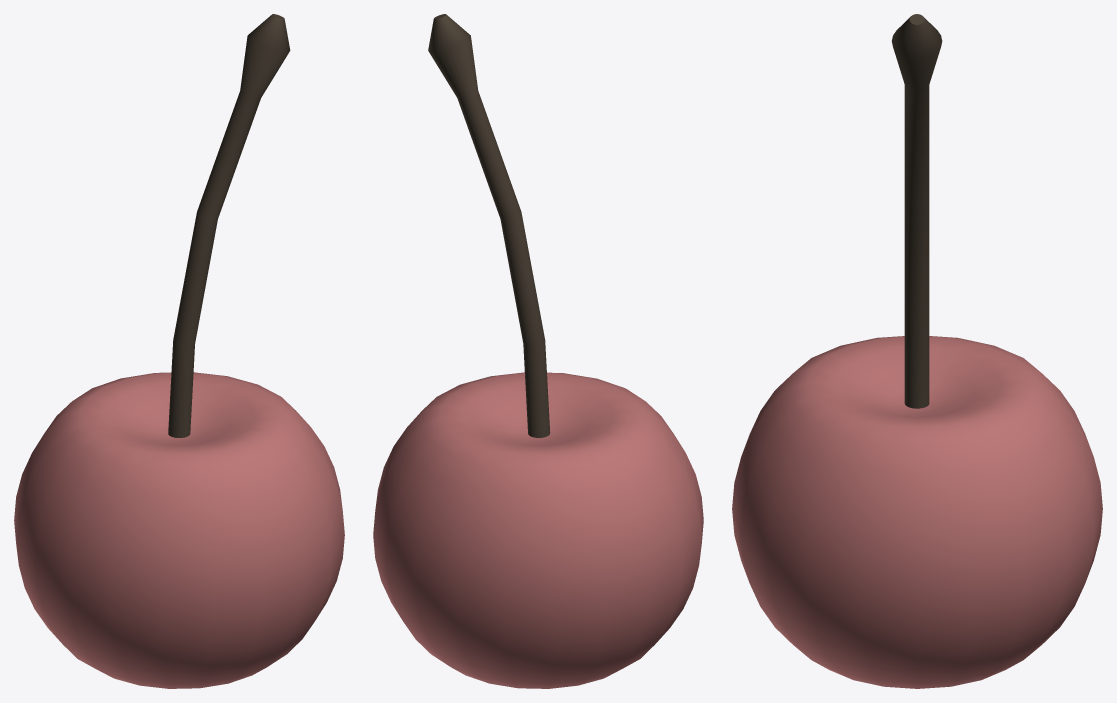
The model's file is cherry.glb.
3 views of the same model, side by side, from view 1: azimuth 30°, elevation 25°; view 2: azimuth 150°, elevation 25°; view 3: azimuth 270°, elevation 25° (orthographic). The views are drawn at different scales.
Visible parts, largest first — view 1: pSphere1, pCylinder3; view 2: pSphere1, pCylinder3; view 3: pSphere1, pCylinder3.
Part boxes in pixels (x1,y1,x2,y2): pSphere1: [14, 372, 344, 688]; pCylinder3: [168, 14, 290, 437]; pSphere1: [373, 372, 703, 688]; pCylinder3: [428, 14, 550, 437]; pSphere1: [732, 336, 1102, 688]; pCylinder3: [891, 14, 942, 408].
Size of the model in its own units: 1.15 by 2.39 by 1.15.
